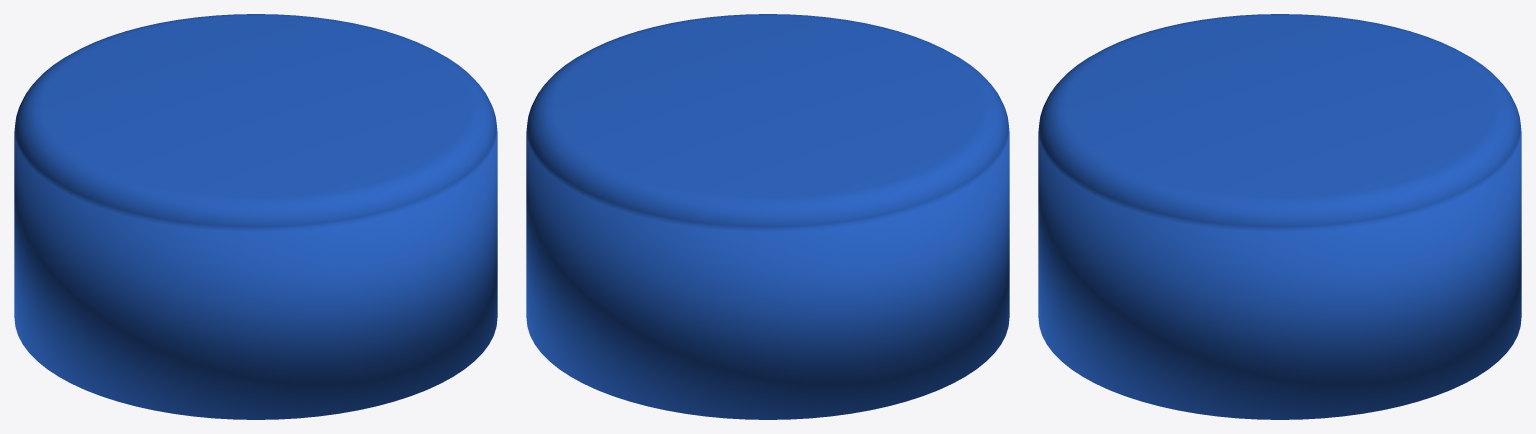
The model's file is SM_Cap_GL45.glb.
The picture shows the model from 3 angles, left to right: view 1: azimuth 30°, elevation 25°; view 2: azimuth 150°, elevation 25°; view 3: azimuth 270°, elevation 25°; orthographic projection.
Parts seen in each view (by area): view 1: SM_Cap_GL45; view 2: SM_Cap_GL45; view 3: SM_Cap_GL45.
Part boxes in pixels (x1,y1,x2,y2): SM_Cap_GL45: (14,14,497,419); SM_Cap_GL45: (526,14,1009,419); SM_Cap_GL45: (1038,14,1521,419).
Bounding box in the file's own units: 0.054 × 0.026 × 0.054.
